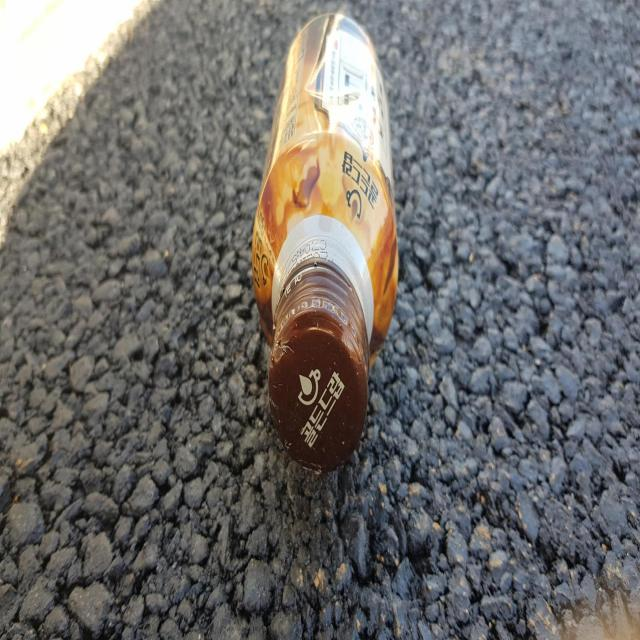can: (252, 12, 399, 470)
